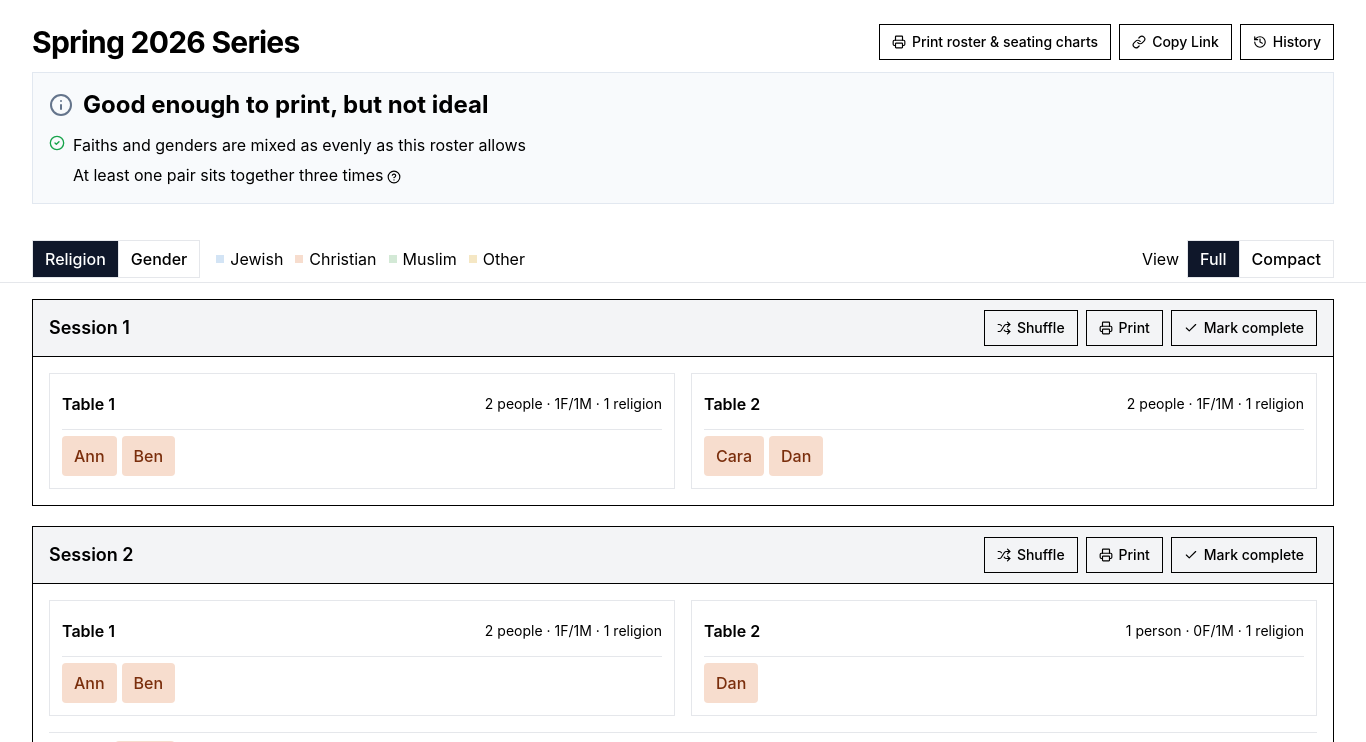
AssignmentsPage › resends the session's recorded absentees so the shuffle keeps their seats empty
Click the 2nd button "Shuffle" at point(1031, 555), box [984,537,1078,573]
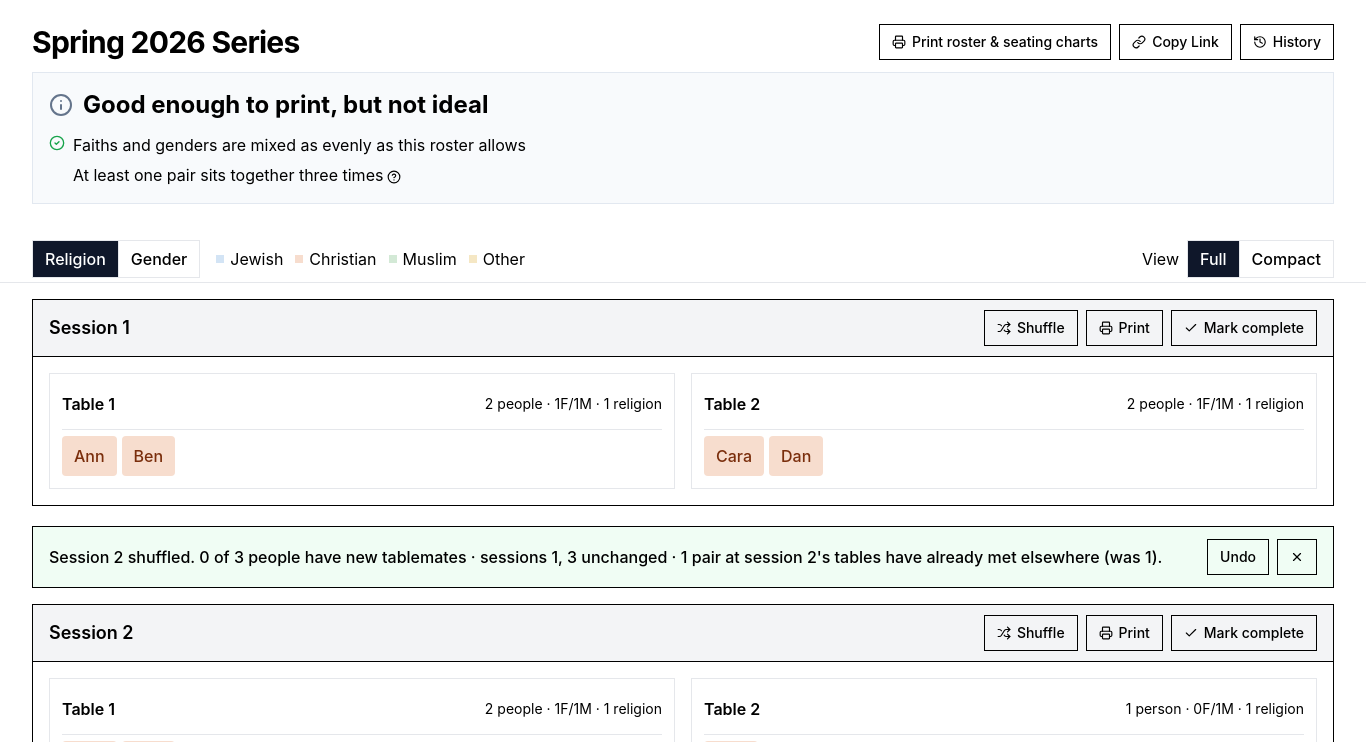
Check: the text "Session 2 shuffled." is shown, box [49,547,1162,567]
